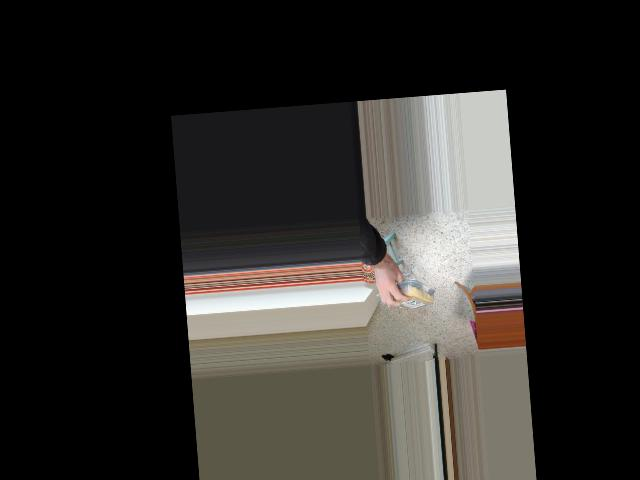cheese: (382, 276, 437, 313)
